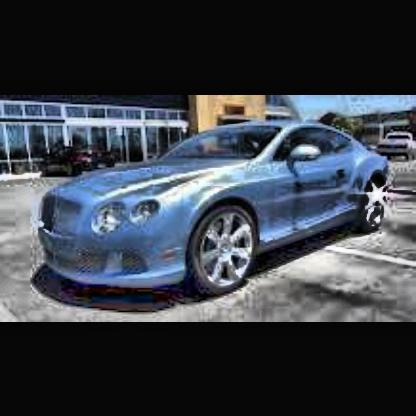Bentley Continental GT Coupe 2012: (35, 120, 395, 301)
